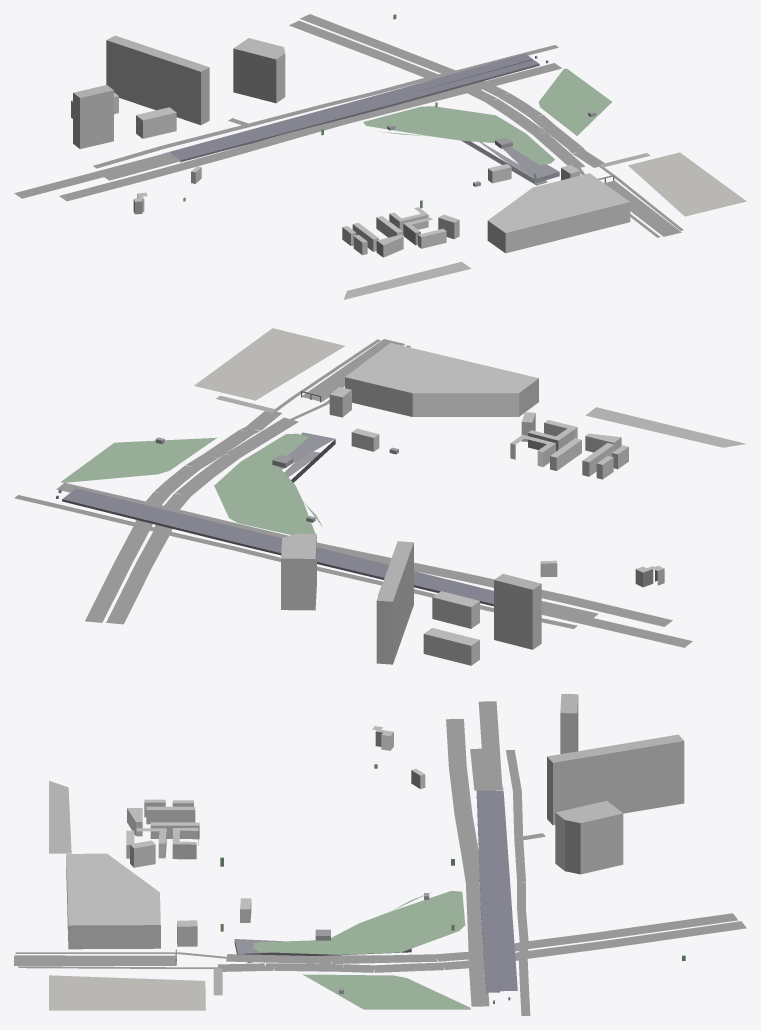
The picture shows the model from 3 angles, top to bottom: view 1: azimuth 30°, elevation 25°; view 2: azimuth 150°, elevation 25°; view 3: azimuth 270°, elevation 25°; orthographic projection. The views are drawn at different scales.
Bounding box in the file's own units: 585 × 70.34 × 572.
